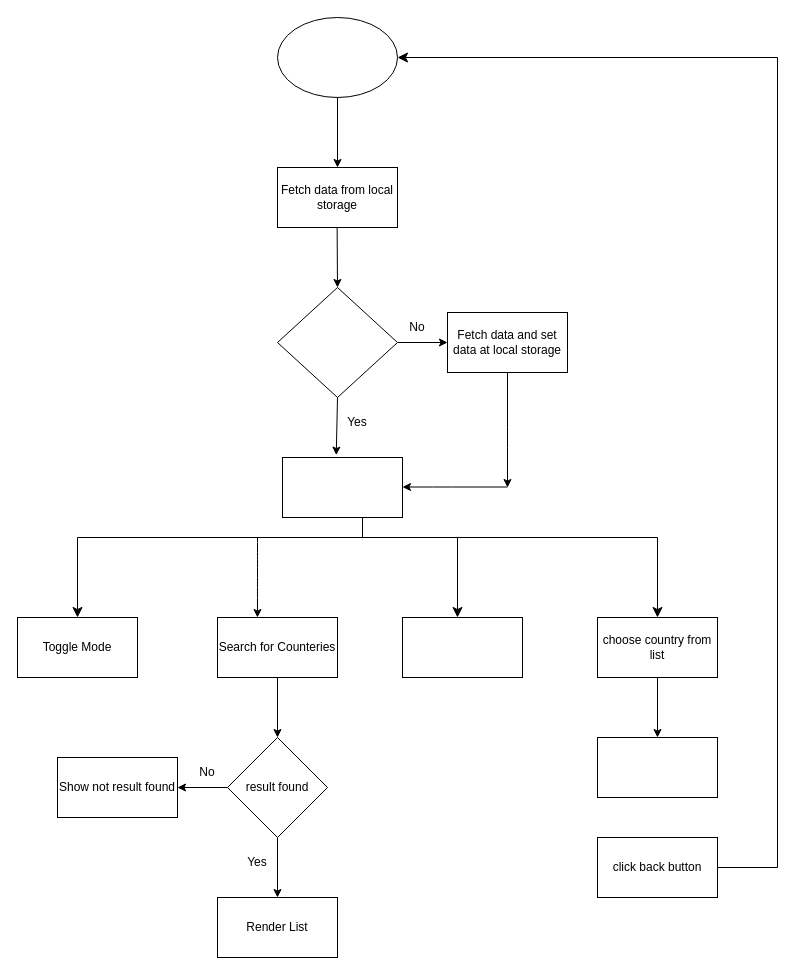
Image size: 805x975. Some labels were removed from this diagram. The centre of each missing label's shape, as x and y in pixels:
"Data Found" belongs at (337,342).
"Render Counteries List" belongs at (342,487).
"render country details" belongs at (657,767).
"Select region from dropdown" belongs at (462,647).
"Start" belongs at (337,57).
